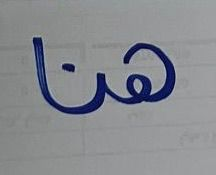heh: (111, 36, 180, 110)
noon: (54, 47, 108, 118)
teh_marbota: (21, 32, 52, 117)
